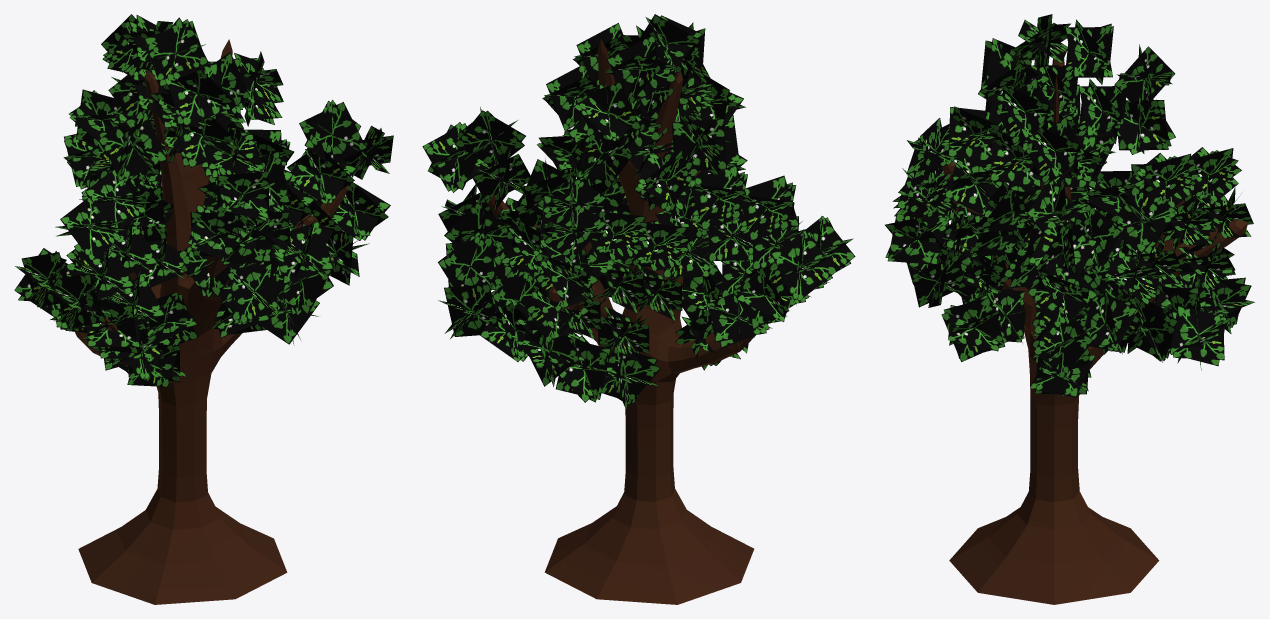
The model's file is Softheart_Linden_T2_Var1.glb.
3 renders of one model, left to right at view 1: azimuth 30°, elevation 25°; view 2: azimuth 150°, elevation 25°; view 3: azimuth 270°, elevation 25°, orthographic.
Visible parts, largest first — view 1: Leaves, Full_Tree; view 2: Leaves, Full_Tree; view 3: Leaves, Full_Tree.
Part boxes in pixels (x1,y1,x2,y2): Leaves: (14, 14, 393, 386); Full_Tree: (75, 39, 348, 604); Leaves: (422, 14, 855, 409); Full_Tree: (487, 39, 755, 604); Leaves: (885, 14, 1254, 397); Full_Tree: (942, 58, 1248, 604).
Bounding box in the file's own units: 16.92 × 23.11 × 14.28.
2 materials, 2 textured.
